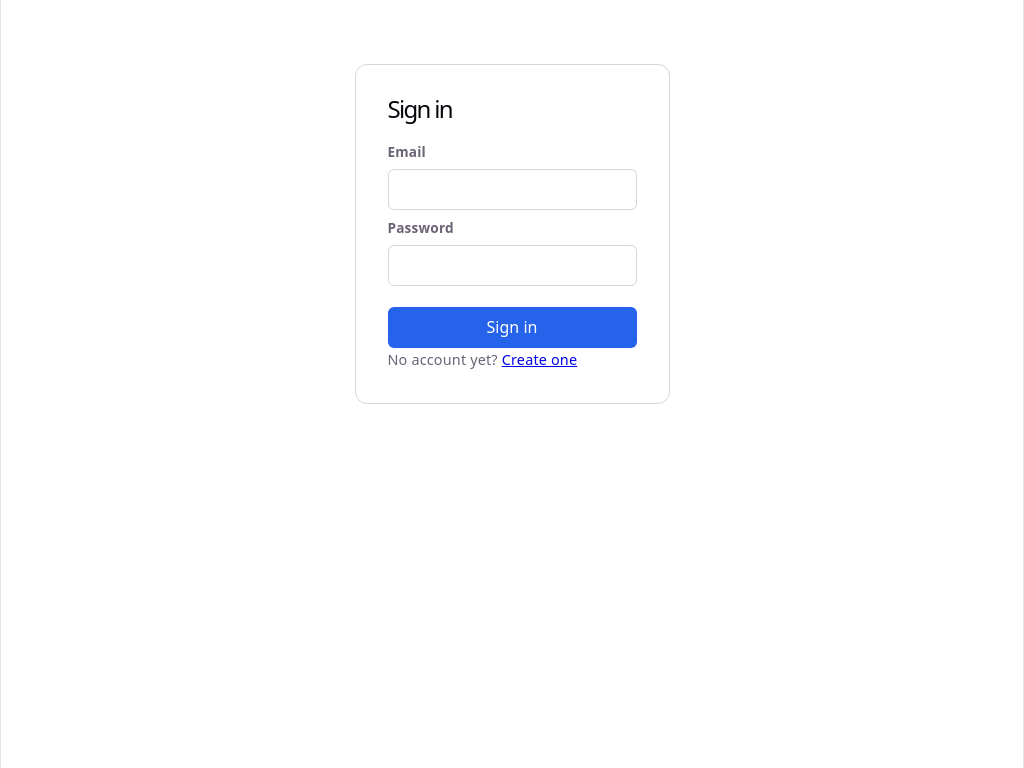
Scenario: signing in › shows the message the backend returned
Type "ada@example.com" into the field labelled "Email" at (512, 190), box [388, 169, 636, 210]
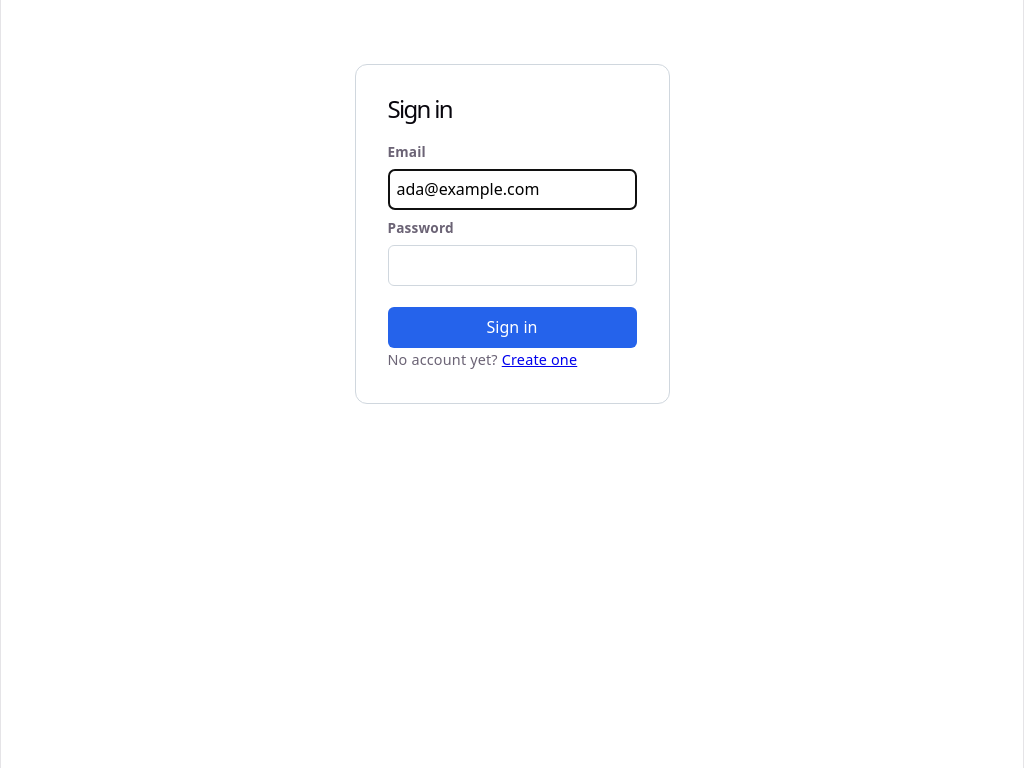
Type "wrong-password" into the password field labelled "Password" at (512, 265), box [388, 245, 636, 286]
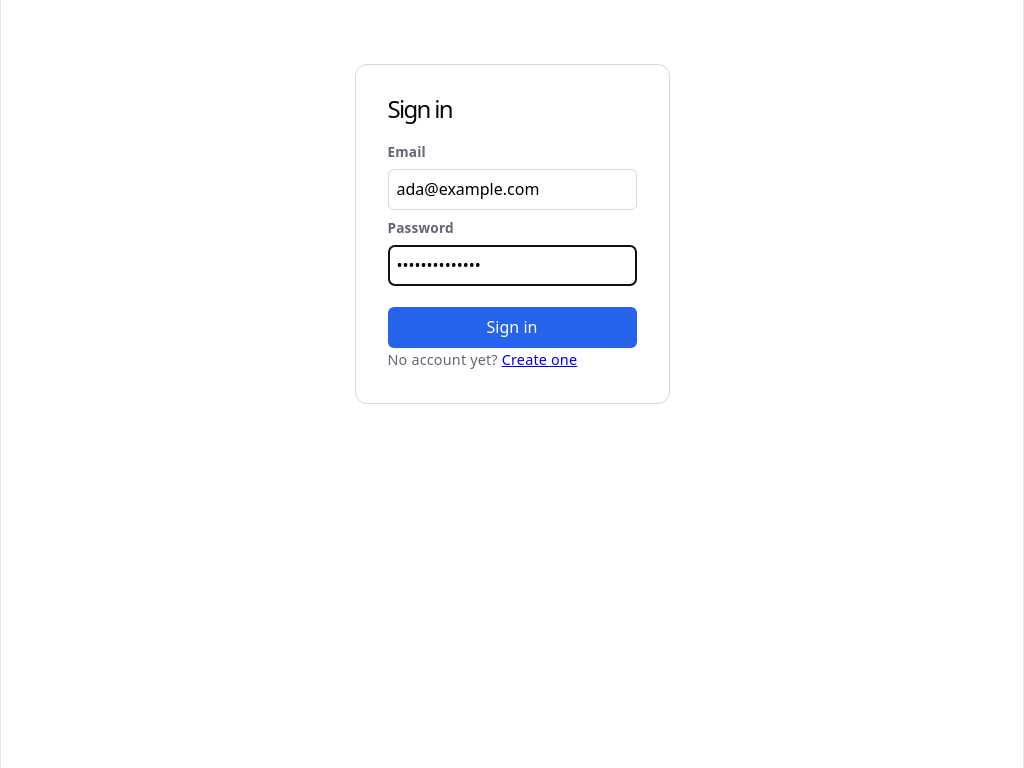
Click the button "Sign in" at (512, 328), box [388, 307, 636, 348]
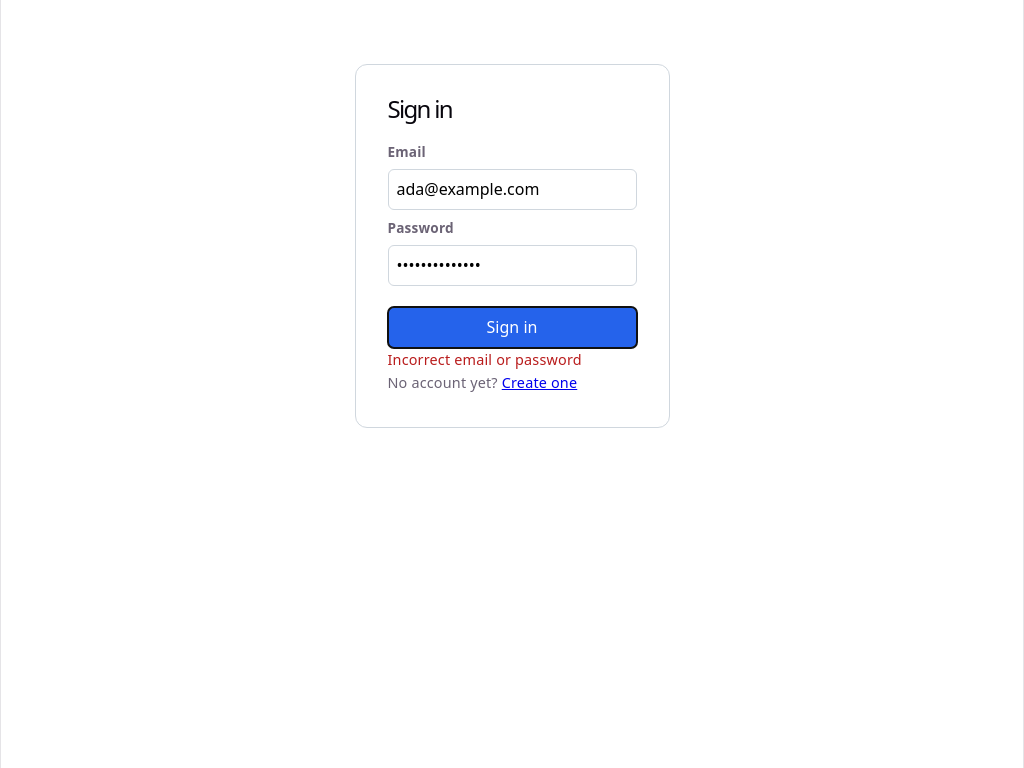
Expected: the message reads "Incorrect email or password", [388, 350, 582, 369]
